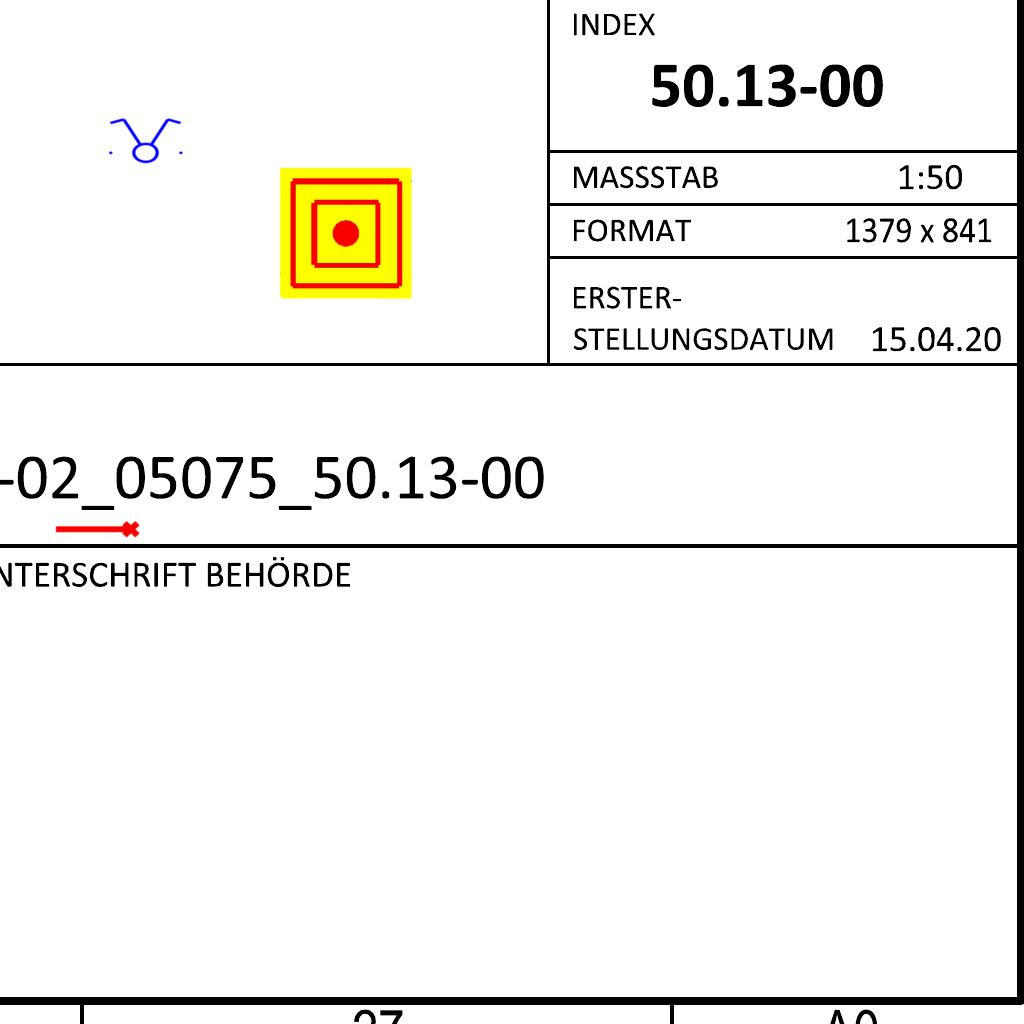ASR_Ansaugoeffnung: (53, 519, 141, 542)
NAM-Nichtautomatischer_Melder: (280, 167, 412, 299)
Serienschalter: (103, 116, 187, 164)
